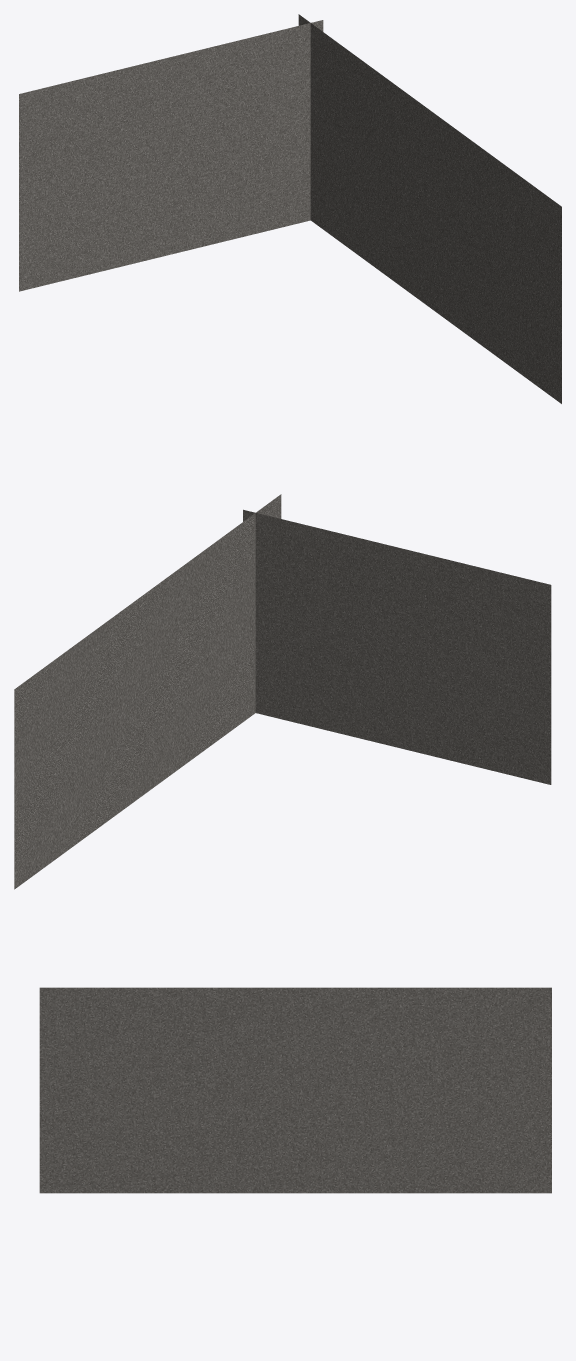
File: lobby_walls.glb
3 renders of one model, top to bottom at view 1: azimuth 30°, elevation 25°; view 2: azimuth 150°, elevation 25°; view 3: azimuth 270°, elevation 25°, orthographic. The views are drawn at different scales.
Parts seen in each view (by area): view 1: pPlane2, pPlane5; view 2: pPlane6, pPlane5; view 3: pPlane3.
Boxes of the visible parts, <box> form: pPlane2: <box>19,20,323,291</box>; pPlane5: <box>298,14,561,403</box>; pPlane6: <box>243,509,551,784</box>; pPlane5: <box>14,494,281,889</box>; pPlane3: <box>39,987,551,1193</box>.
Bounding box in the file's own units: 0.3218 × 0.1998 × 0.4826.
1 material, 1 textured.
